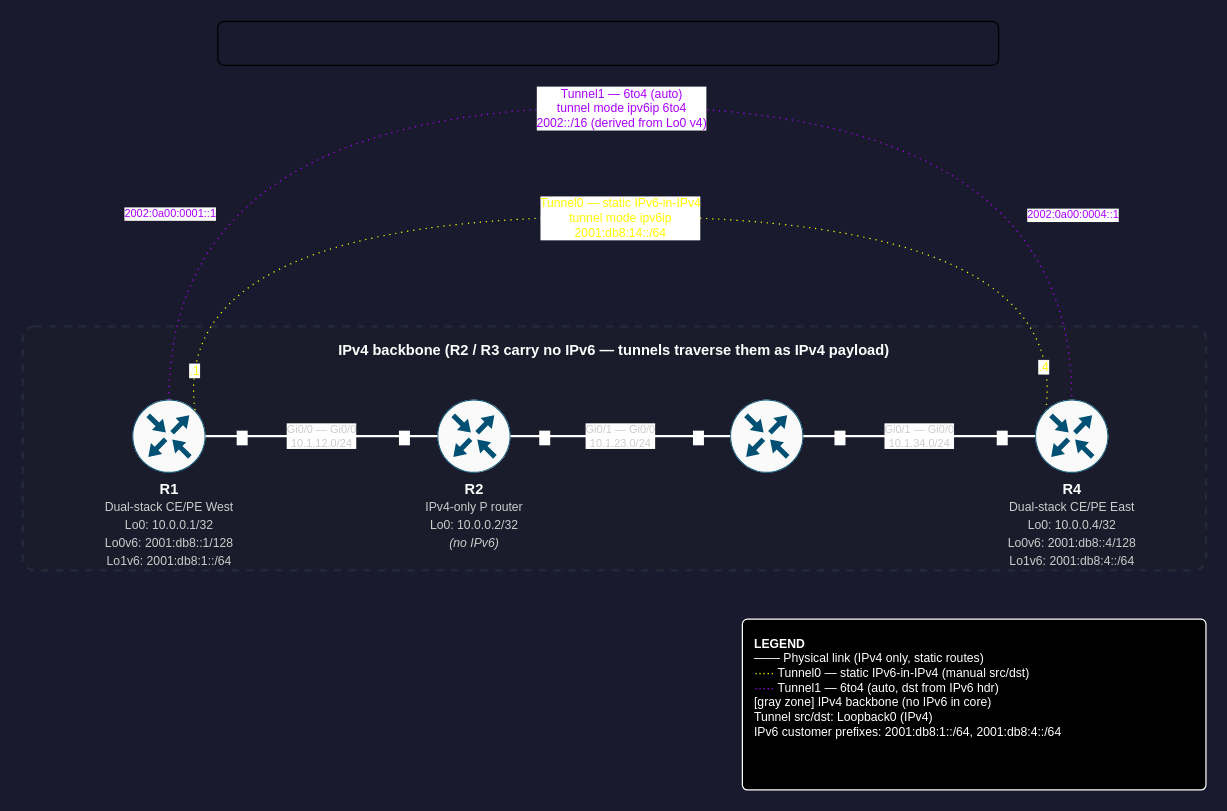
This 1227x811 diagram has some shape labels left out. Here are the shapes that lost their labels. From the top down, the centre of each, then its label:
At [608,42]: "Lab 00: Static IPv6-in-IPv4 and 6to4 Tunnels".
At [766,435]: "R3 IPv4-only P router Lo0: 10.0.0.3/32 (no IPv6)".
